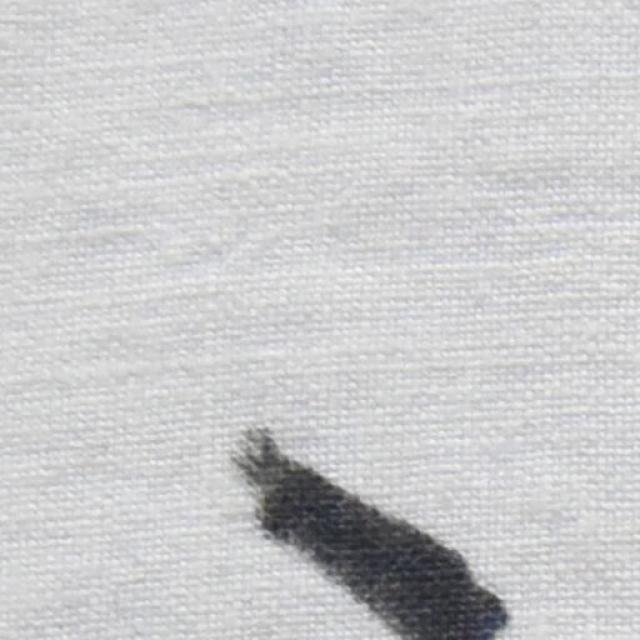Stain: (234, 430, 509, 640)
